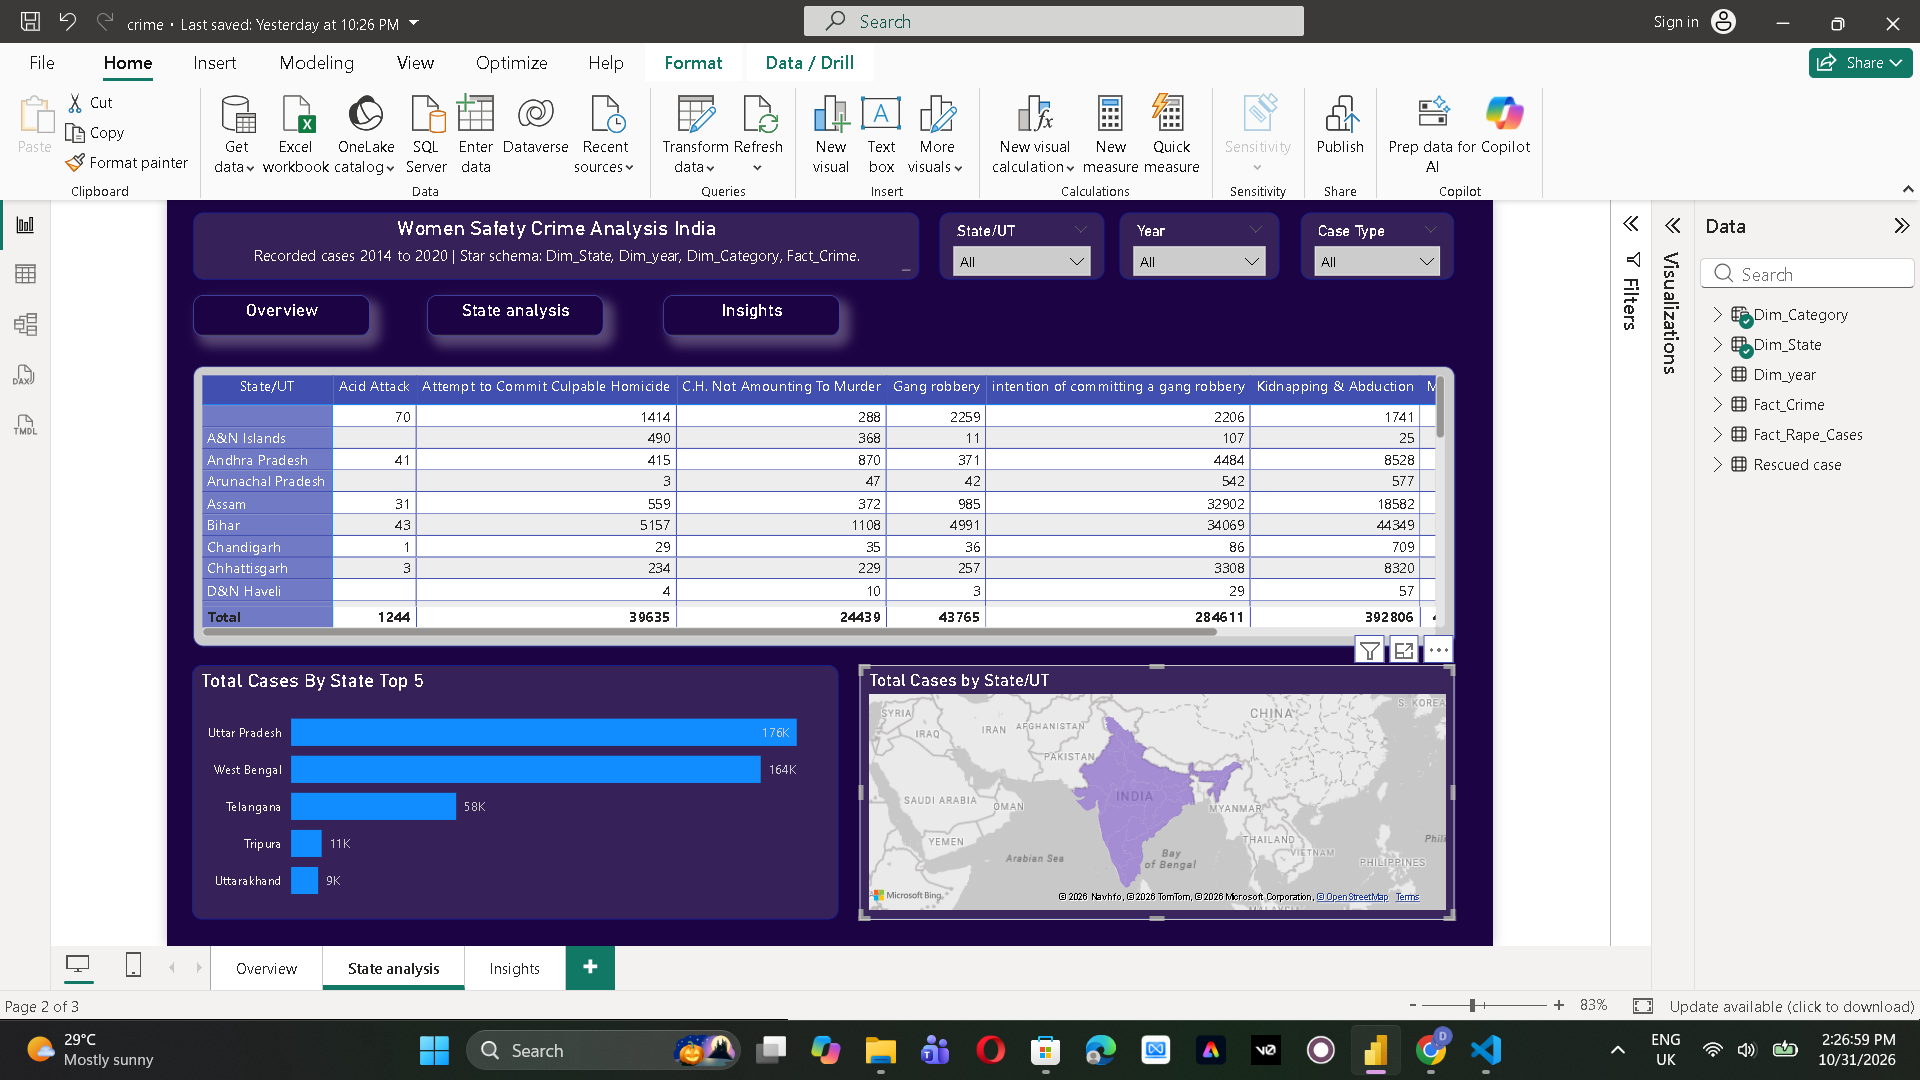

Layout of this report page (visuals, bound fields, positions):
{"tool":"powerbi","page":{"name":"State analysis","canvas":[1280,720],"ordinal":1},"visuals":[{"type":"textbox","title":"Women Safety Crime Analysis India  ","box":[25.3,12.1,700.9,65.1],"z":0},{"type":"slicer","fields":{"Values":["Dim_State.State/UT"]},"box":[745.6,12.1,159.3,65.1],"z":1000},{"type":"slicer","fields":{"Values":["Dim_year.Years"]},"box":[919.3,12.1,154.4,65.1],"z":2000},{"type":"slicer","fields":{"Values":["Dim_Category.Category"]},"box":[1094.2,12.1,148.4,65.1],"z":3000},{"type":"pivotTable","fields":{"Rows":["Dim_State.State/UT"],"Columns":["Fact_Crime.Case Type"],"Values":["Sum(Fact_Crime.Cases Reported)"]},"box":[25.3,160.5,1217.3,270.2],"z":4000},{"type":"filledMap","fields":{"Category":["Dim_State.State/UT"]},"box":[25.3,448.8,1217.3,246.1],"z":5000},{"type":"actionButton","title":"Overview","box":[25.3,91.7,170.1,39.8],"z":6000},{"type":"actionButton","title":"State analysis","box":[250.9,91.7,170.1,39.8],"z":7000},{"type":"actionButton","title":"Insights","box":[479,91.7,170.1,39.8],"z":8000}]}

Visuals, with their boxes on the page's 1280x720 design canvas (x1, y1, x2, y2). These are canvas units, not pixel positions in the 1920x1080 screenshot, which may show the page scaled, cropped or inside an application window:
"Women Safety Crime Analysis India  " textbox: 25/12/726/77
slicer - Dim_State.State/UT: 746/12/905/77
slicer - Dim_year.Years: 919/12/1074/77
slicer - Dim_Category.Category: 1094/12/1243/77
pivotTable - Dim_State.State/UT x Fact_Crime.Case Type: 25/160/1243/431
filledMap - Dim_State.State/UT: 25/449/1243/695
"Overview" actionButton: 25/92/195/132
"State analysis" actionButton: 251/92/421/132
"Insights" actionButton: 479/92/649/132
